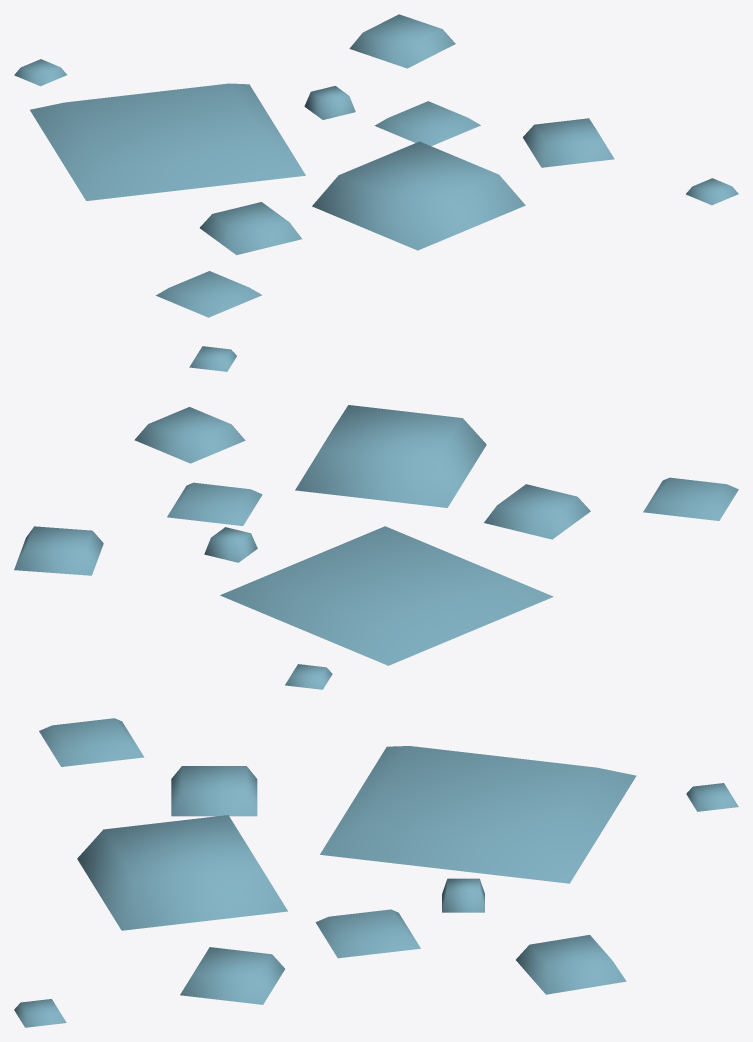
Rendered from iron_ore.glb.
3 renders of one model, top to bottom at view 1: azimuth 30°, elevation 25°; view 2: azimuth 150°, elevation 25°; view 3: azimuth 270°, elevation 25°, orthographic. The views are drawn at different scales.
Parts seen in each view (by area): view 1: iron_ore; view 2: iron_ore; view 3: iron_ore.
Boxes of the visible parts, <box> form: iron_ore: <box>14,14,738,317</box>; iron_ore: <box>14,346,738,689</box>; iron_ore: <box>14,718,738,1027</box>.
Bounding box in the file's own units: 1 × 0.0546 × 1.
